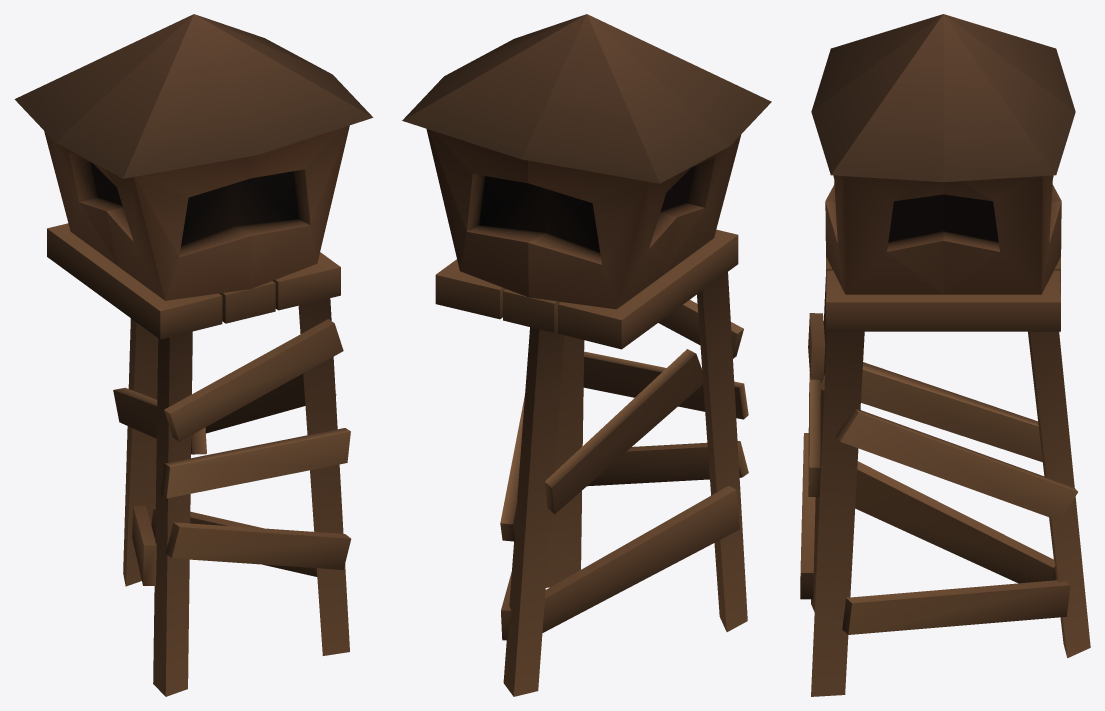
Rendered from goblin_rangedtower_v1.fbx.
3 views of the same model, side by side, from view 1: azimuth 30°, elevation 25°; view 2: azimuth 150°, elevation 25°; view 3: azimuth 270°, elevation 25° (orthographic). The views are drawn at different scales.
Parts seen in each view (by area): view 1: gobb_rangedtower; view 2: gobb_rangedtower; view 3: gobb_rangedtower.
Boxes of the visible parts, box(x1,y1,x2,y2) form: gobb_rangedtower: box(14, 14, 373, 696); gobb_rangedtower: box(402, 14, 771, 696); gobb_rangedtower: box(800, 14, 1090, 696).
Size of the model in its own units: 3.65 by 3.19 by 7.71.
